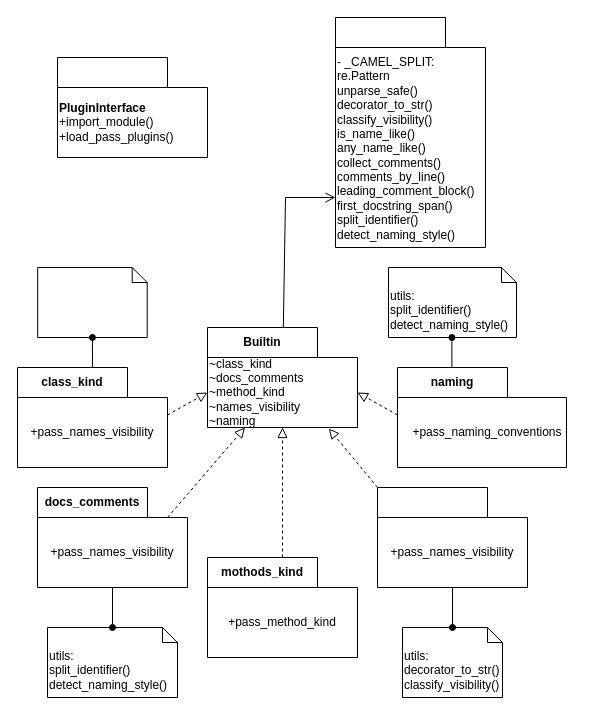
Some shapes in this 595 by 715 pixel diagram are drawn without their labels. Here are the shapes that lost their labels. From the top down, the box of each, then its label:
(56, 56, 208, 158): Loader
(334, 16, 486, 248): Utils
(37, 266, 147, 338): utils: unparse_safe() decorator_to_str()
(376, 486, 528, 588): names_visibility
